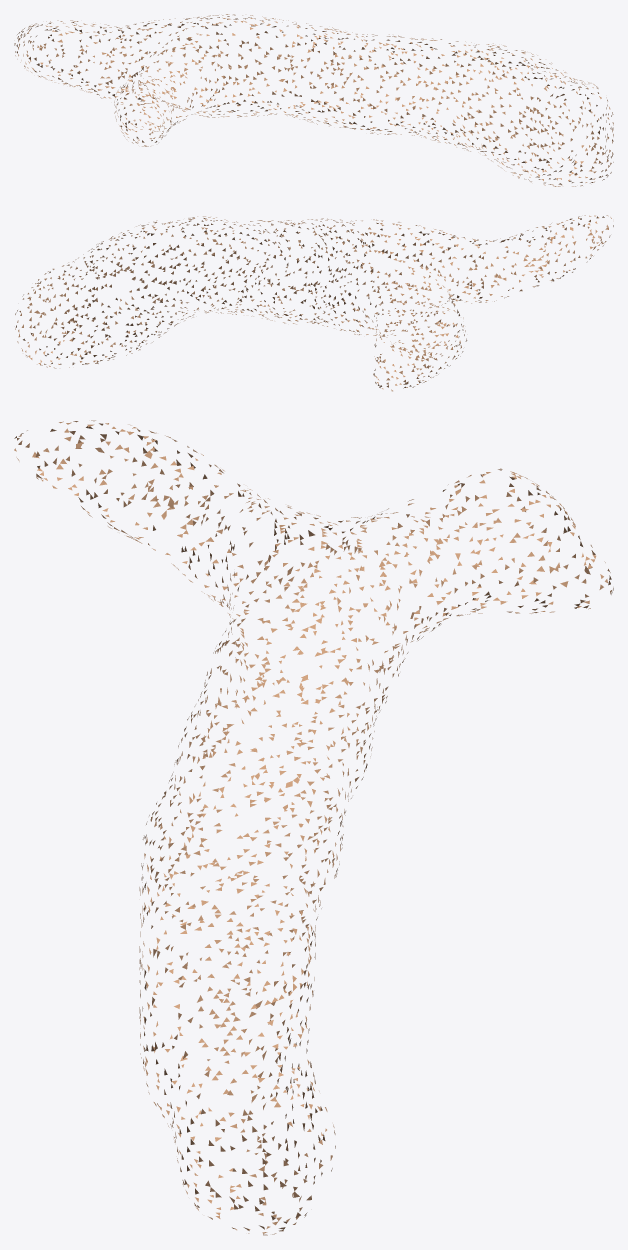
Rendered from morph_005.glb.
3 views of the same model, one above another, from view 1: azimuth 30°, elevation 25°; view 2: azimuth 150°, elevation 25°; view 3: azimuth 270°, elevation 25° (orthographic). The views are drawn at different scales.
Size of the model in its own units: 110 by 46.78 by 62.83.
